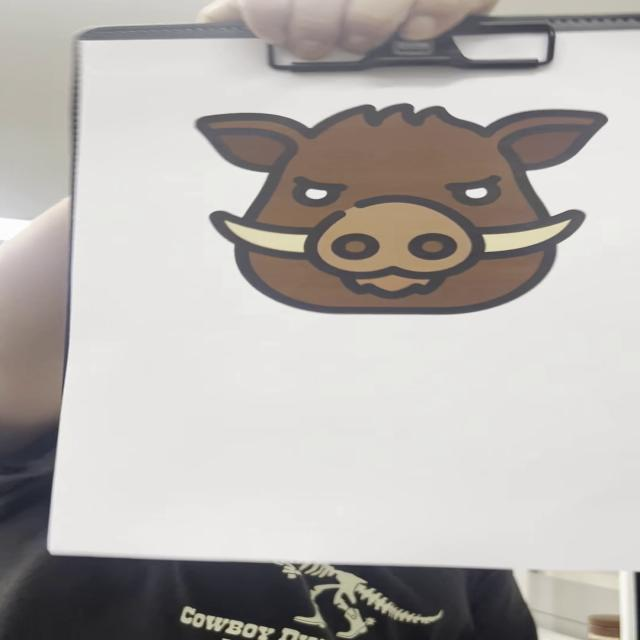animal: (192, 104, 609, 316)
